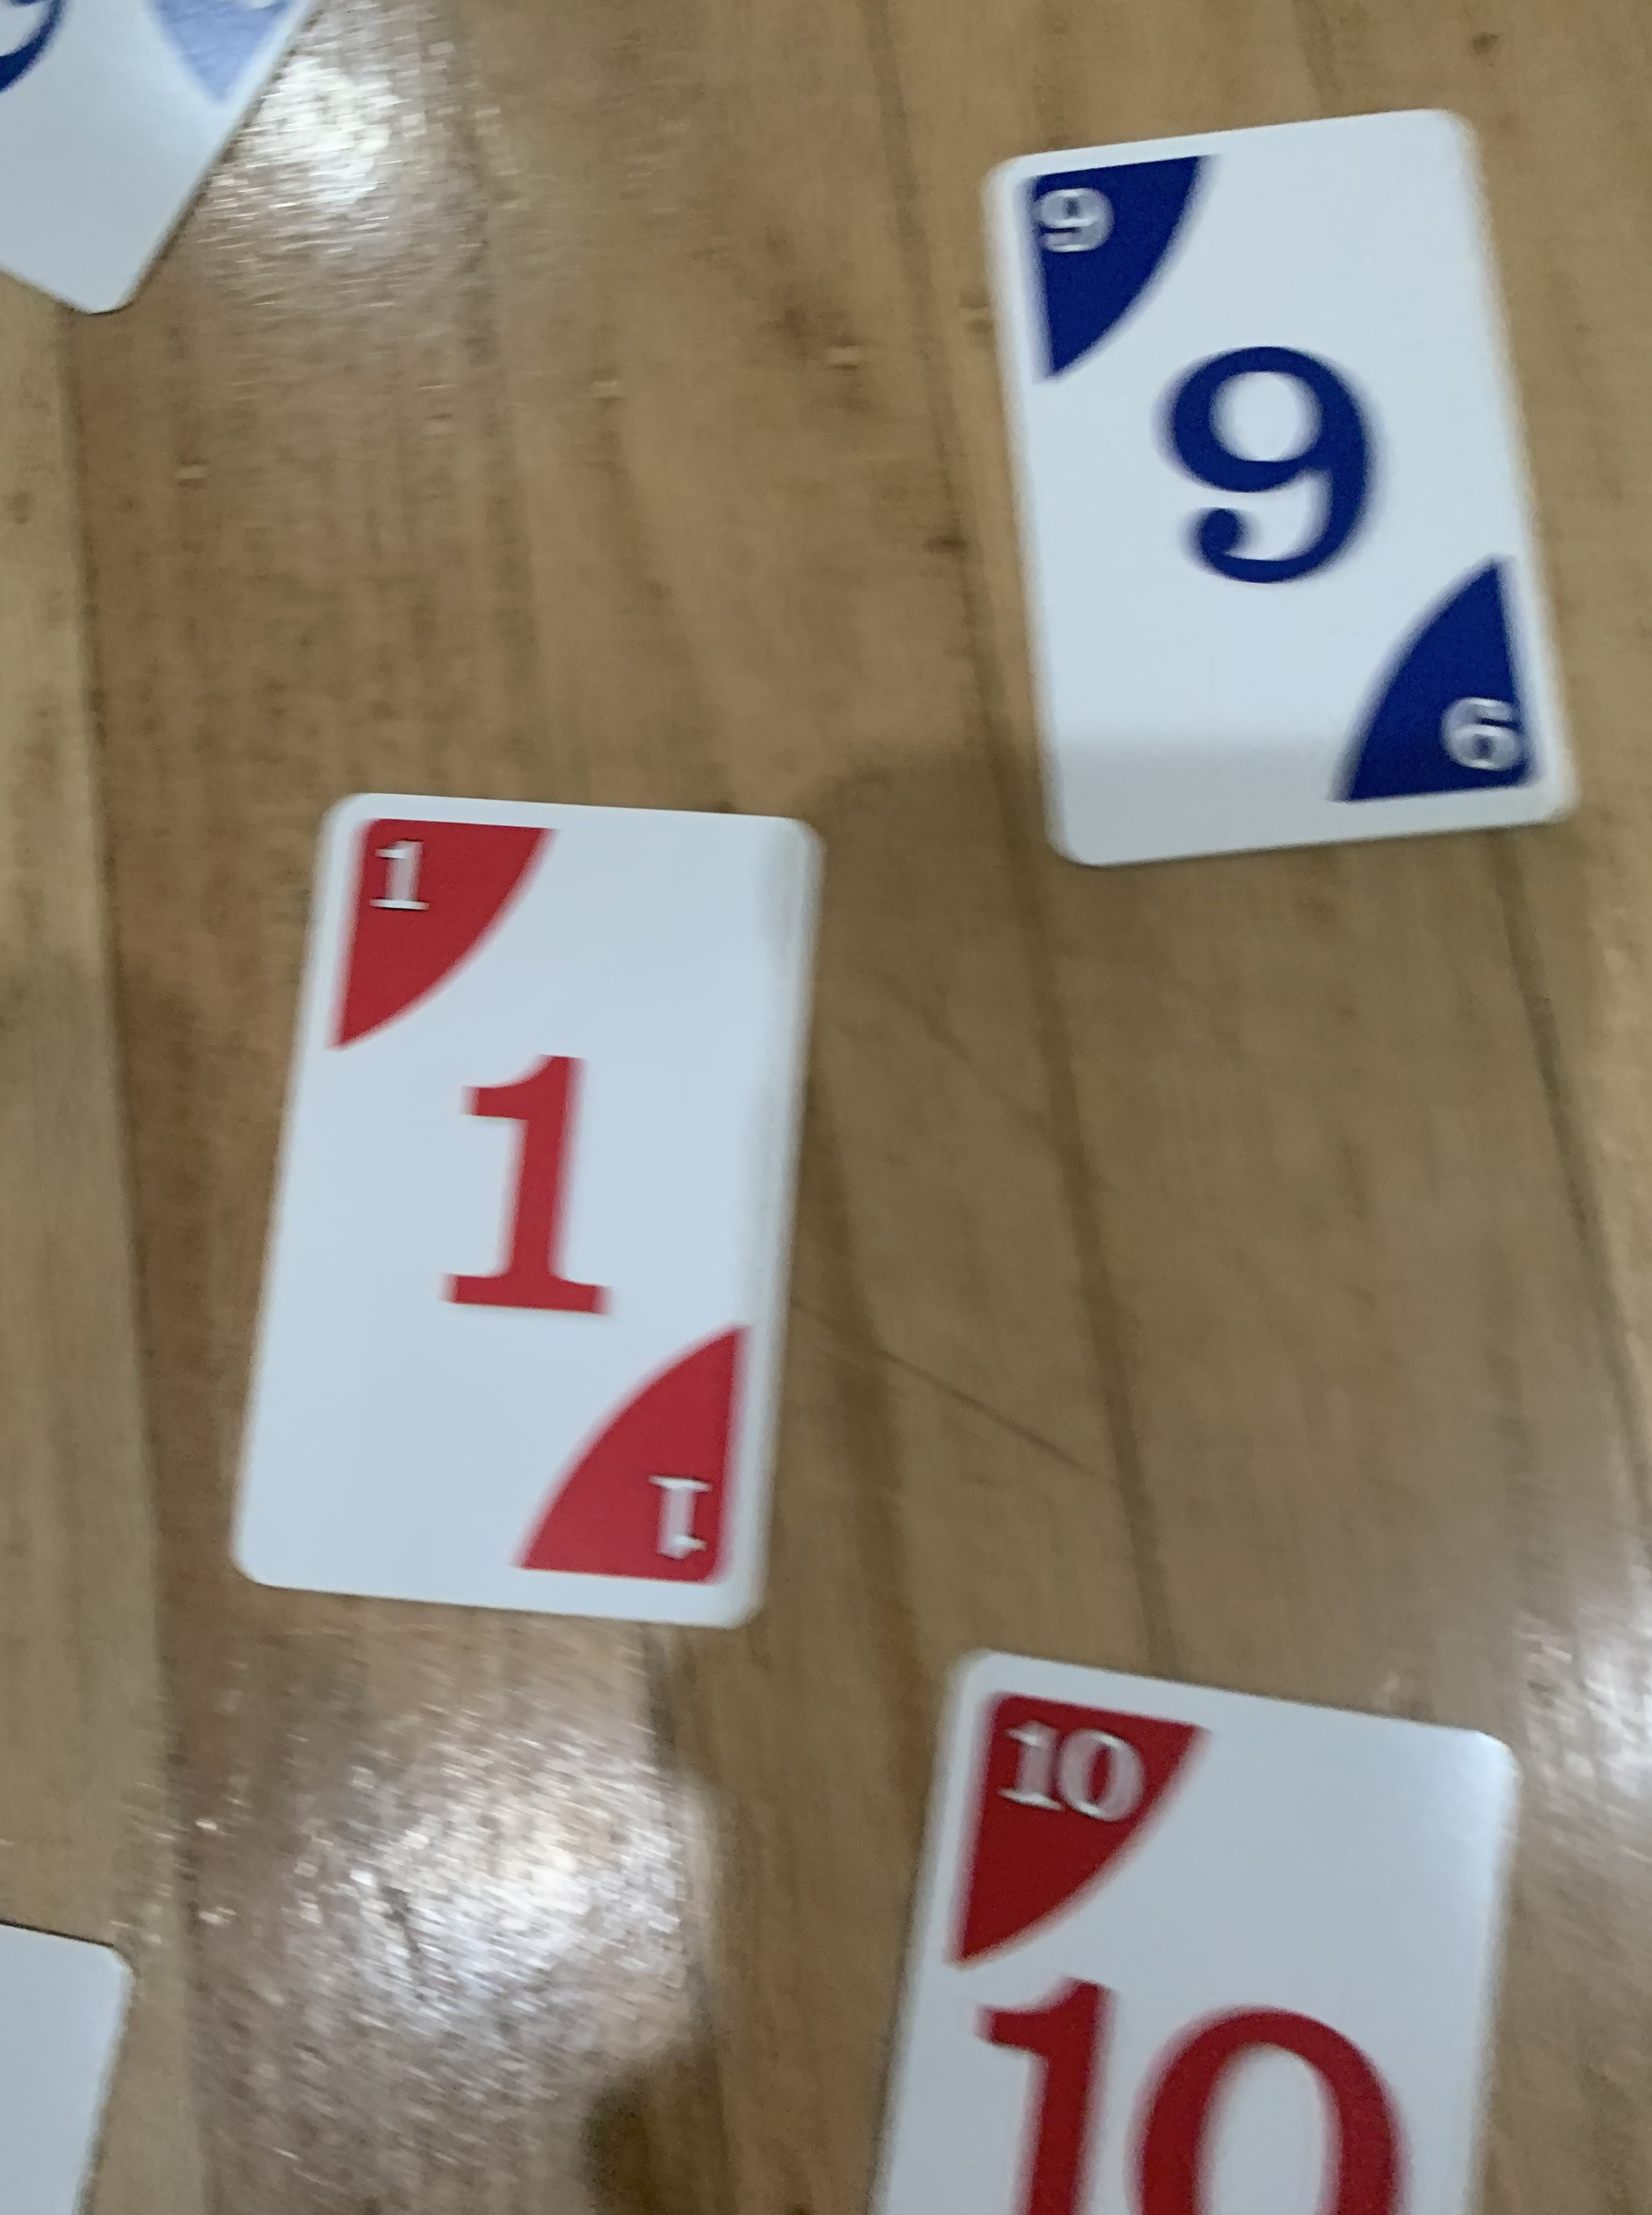nine: (975, 89, 1586, 873)
one: (213, 783, 835, 1637)
ten: (862, 1653, 1544, 2215)
